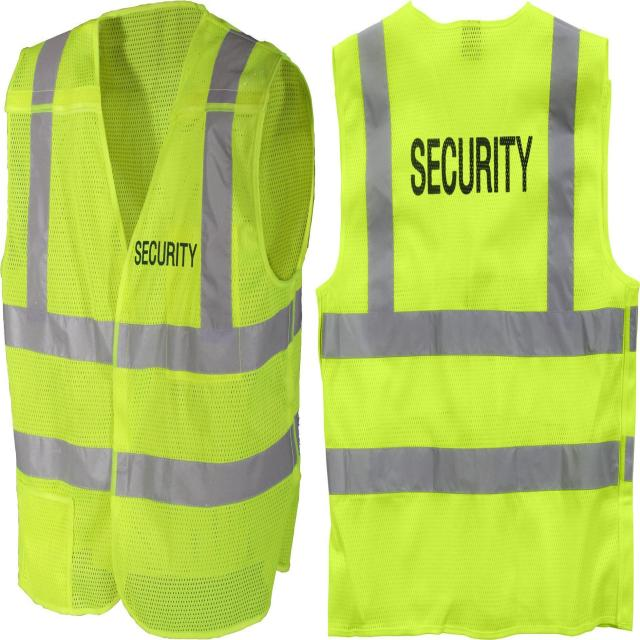Vest: (316, 2, 639, 636), (2, 3, 316, 638)
